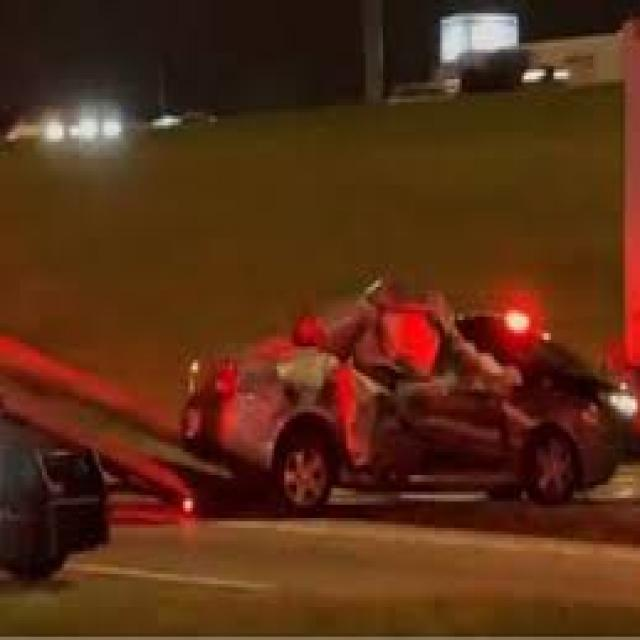accident: (208, 258, 635, 514)
